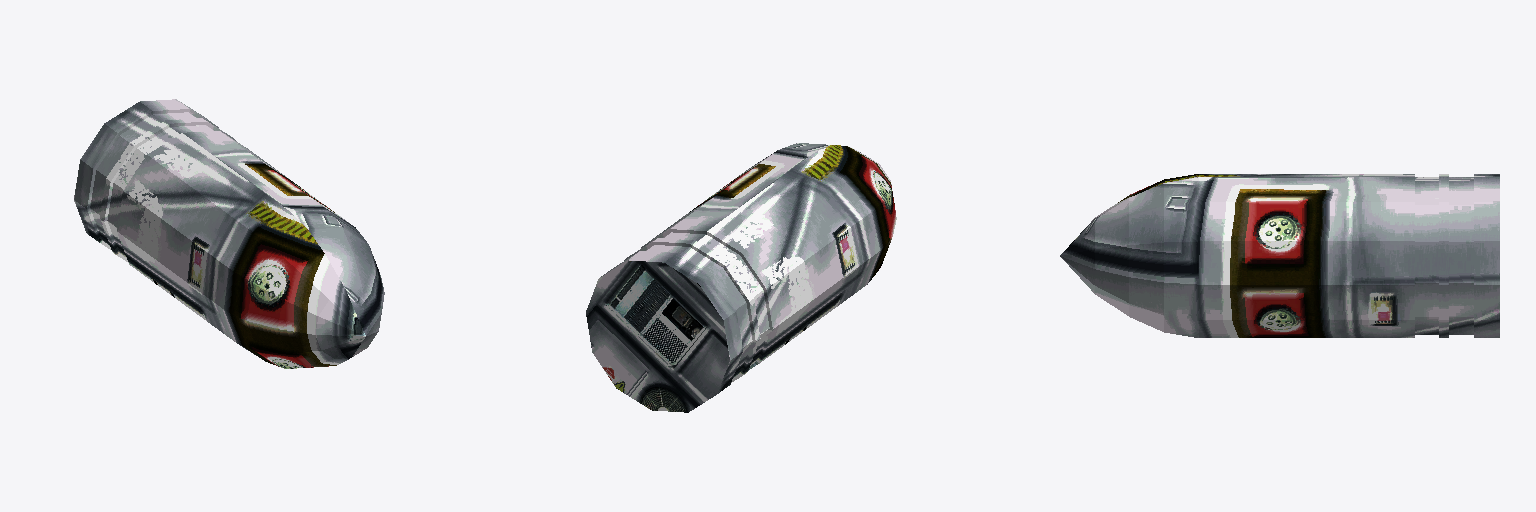
The picture shows the model from 3 angles: view 1: azimuth 30°, elevation 25°; view 2: azimuth 150°, elevation 25°; view 3: azimuth 270°, elevation 25°; orthographic projection.
Visible parts, largest first — view 1: Cylinder001; view 2: Cylinder001; view 3: Cylinder001.
Part boxes in pixels (left/top/right/bottom): Cylinder001: left=74, top=99, right=384, bottom=368; Cylinder001: left=586, top=143, right=896, bottom=412; Cylinder001: left=1060, top=174, right=1499, bottom=337.
Size of the model in its own units: 27.91 by 27.91 by 73.76.
1 materials, 1 textured.